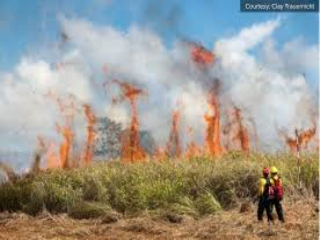fire: (191, 41, 256, 163), (106, 75, 151, 164), (162, 107, 200, 166), (48, 102, 80, 170), (277, 111, 318, 161), (78, 101, 104, 174)
smoke: (37, 13, 308, 112)
